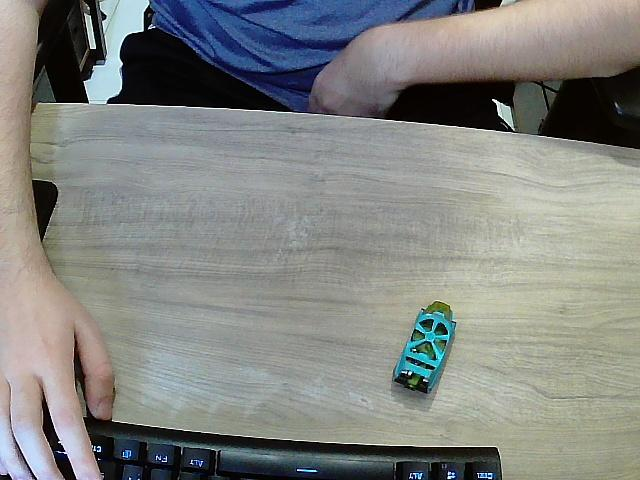Carro: (394, 302, 457, 397)
